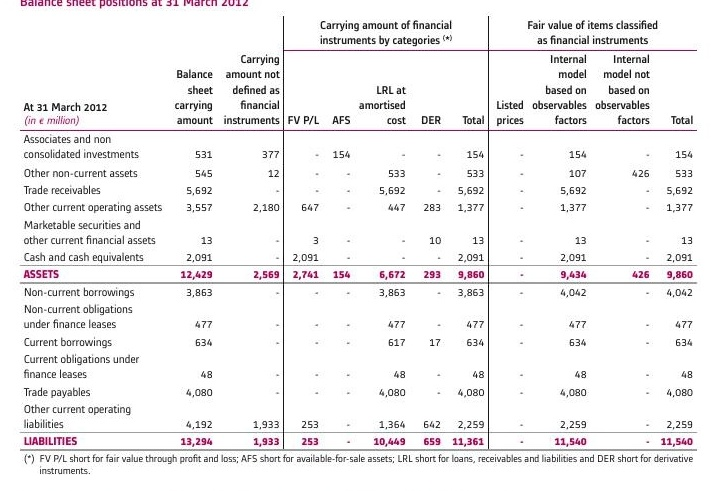table: (0, 0, 719, 491)
